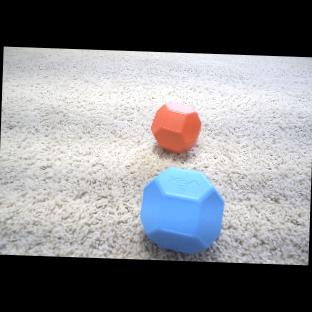V5_BLUE: (140, 165, 226, 255)
V5_RED: (150, 101, 202, 154)
